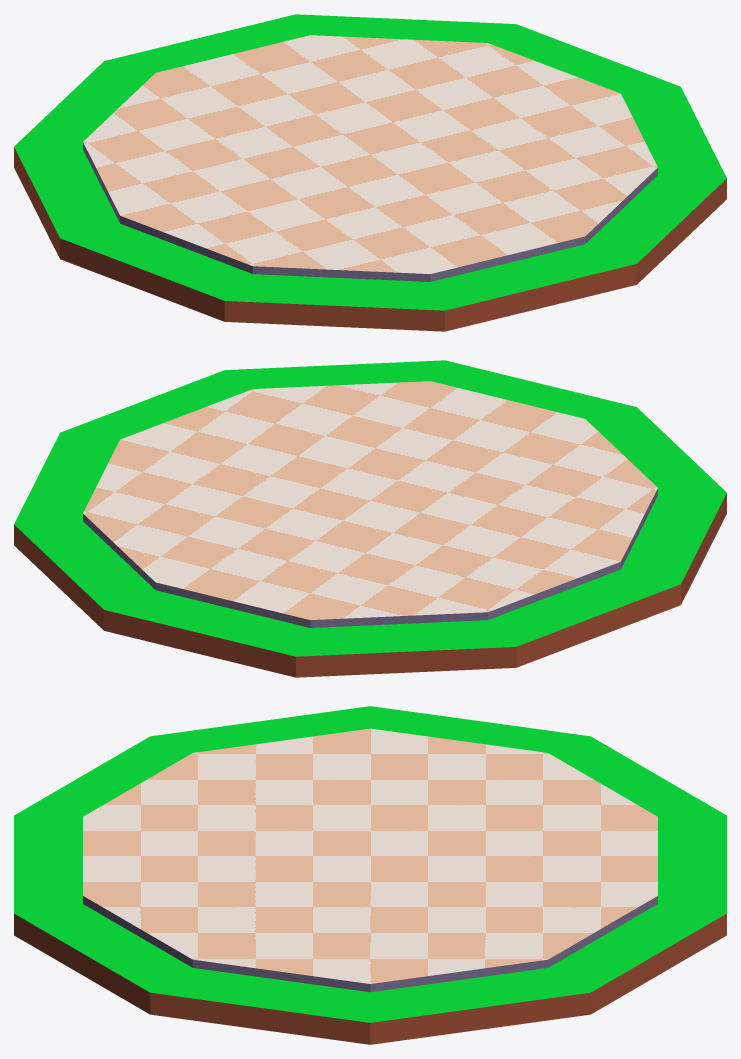
The model's file is plaza.glb.
The picture shows the model from 3 angles, top to bottom: view 1: azimuth 30°, elevation 25°; view 2: azimuth 150°, elevation 25°; view 3: azimuth 270°, elevation 25°; orthographic projection. The views are drawn at different scales.
Parts seen in each view (by area): view 1: Plaza, Grass; view 2: Plaza, Grass; view 3: Plaza, Grass.
Part boxes in pixels (x1,y1,x2,y2): Plaza: (83, 35, 657, 281); Grass: (14, 14, 726, 331); Plaza: (83, 381, 657, 627); Grass: (14, 360, 726, 677); Plaza: (83, 728, 657, 992); Grass: (14, 706, 726, 1044).
Bounding box in the file's own units: 12.4 × 2.79 × 11.79.
Materials: 4 (1 with a texture image).
